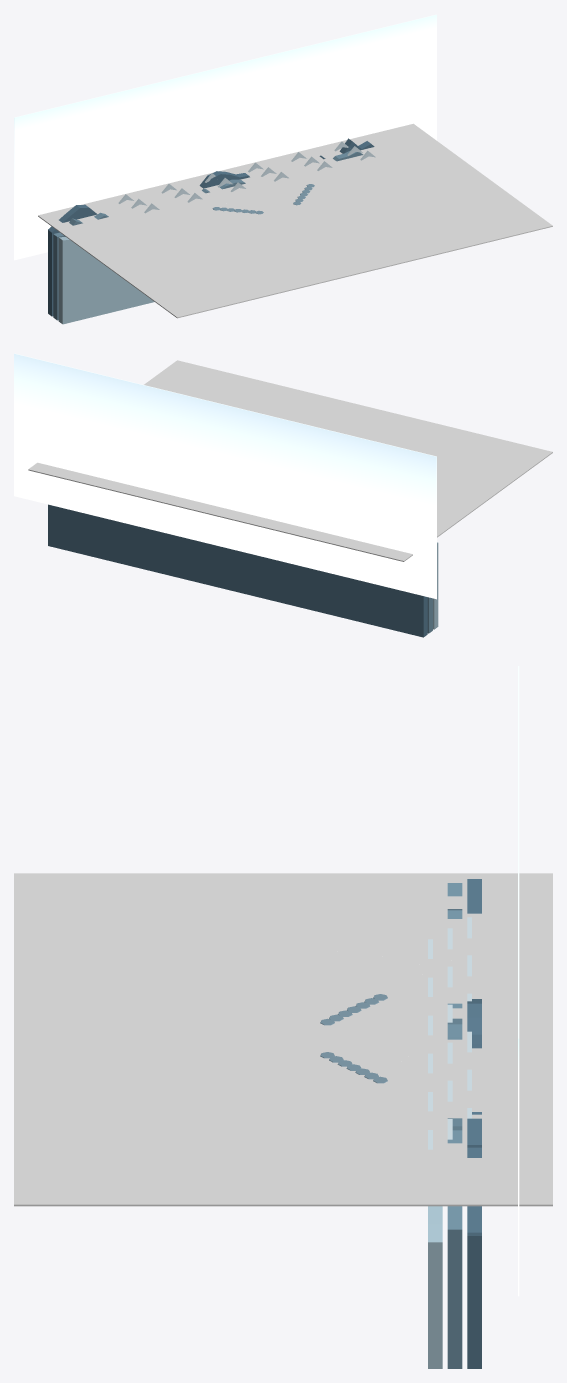
File: summitcommand.glb
3 renders of one model, top to bottom at view 1: azimuth 30°, elevation 25°; view 2: azimuth 150°, elevation 25°; view 3: azimuth 270°, elevation 25°, orthographic. The views are drawn at different scales.
Parts seen in each view (by area): view 1: Ground contact / transparent shadow receiver.060, Sky gradient / editable material.060, World / terrain and architecture.023; view 2: Sky gradient / editable material.060, Ground contact / transparent shadow receiver.060, World / terrain and architecture.023; view 3: Ground contact / transparent shadow receiver.060, World / terrain and architecture.023, Sky gradient / editable material.060, Foreground / edge details.021.
Boxes of the visible parts, x1=… form: Ground contact / transparent shadow receiver.060: x1=38, y1=123, x2=552, y2=318; Sky gradient / editable material.060: x1=14, y1=14, x2=436, y2=260; World / terrain and architecture.023: x1=48, y1=138, x2=375, y2=324; Sky gradient / editable material.060: x1=14, y1=353, x2=436, y2=599; Ground contact / transparent shadow receiver.060: x1=28, y1=360, x2=552, y2=561; World / terrain and architecture.023: x1=48, y1=504, x2=438, y2=637; Ground contact / transparent shadow receiver.060: x1=14, y1=873, x2=552, y2=1206; World / terrain and architecture.023: x1=428, y1=879, x2=481, y2=1368; Sky gradient / editable material.060: x1=518, y1=666, x2=519, y2=1296; Foreground / edge details.021: x1=320, y1=994, x2=387, y2=1083.
Size of the model in its own units: 180 by 79 by 110.
